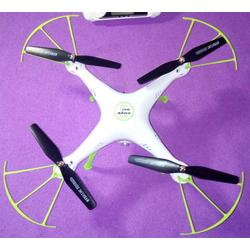drone: (3, 13, 246, 235)
